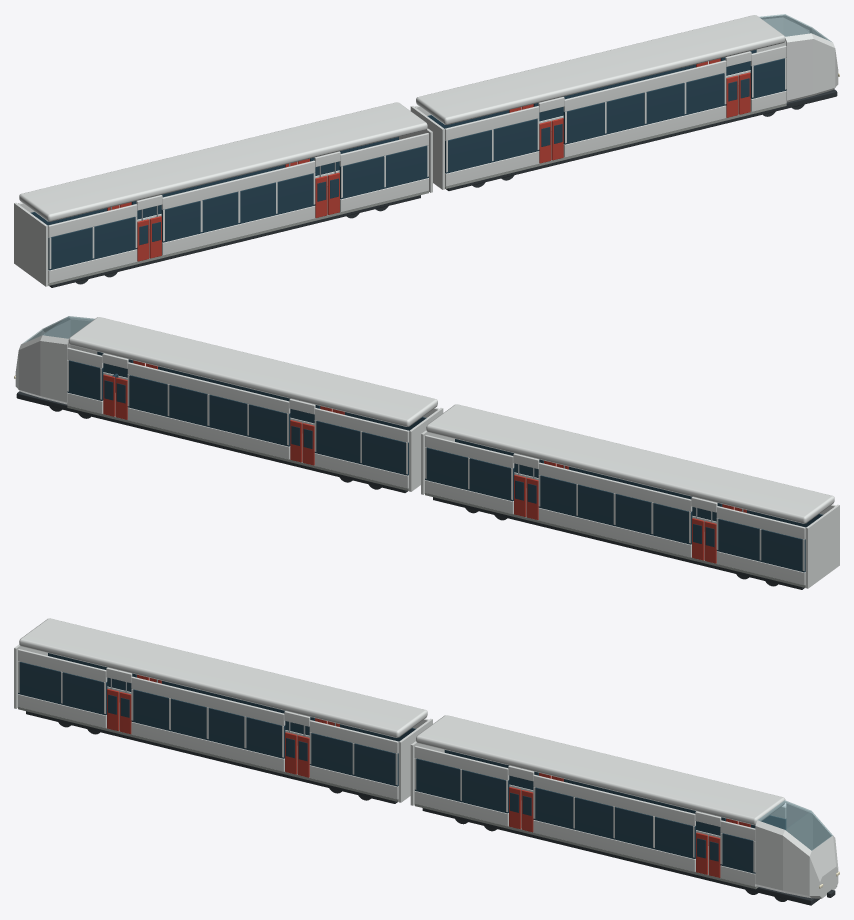
File: EMU-1.fbx
The picture shows the model from 3 angles, top to bottom: view 1: azimuth 30°, elevation 25°; view 2: azimuth 150°, elevation 25°; view 3: azimuth 330°, elevation 25°; orthographic projection.
Parts seen in each view (by area): view 1: INTERMEDIATE_roof, CAB_roof, CAB_L_side_1_2.21, INTERMEDIATE_L_side_1_2.21, CAB_sculpted_nose, CAB_L_side_0_2.21, INTERMEDIATE_L_side_0_2.21, INTERMEDIATE_L_side_2_2.21, CAB_L_side_1_1.08, INTERMEDIATE_trailing_bulkhead, CAB_L_side_1_3.31, INTERMEDIATE_L_side_1_1.08 (+16 smaller); view 2: INTERMEDIATE_roof, CAB_roof, CAB_R_side_1_2.21, INTERMEDIATE_R_side_1_2.21, CAB_sculpted_nose, CAB_R_side_0_2.21, INTERMEDIATE_R_side_0_2.21, INTERMEDIATE_R_side_2_2.21, CAB_R_side_1_1.08, INTERMEDIATE_trailing_bulkhead, CAB_R_side_1_3.31, INTERMEDIATE_R_side_1_1.08 (+16 smaller); view 3: INTERMEDIATE_roof, CAB_roof, CAB_sculpted_nose, CAB_L_side_1_2.21, INTERMEDIATE_L_side_1_2.21, CAB_L_side_0_2.21, INTERMEDIATE_L_side_2_2.21, INTERMEDIATE_L_side_0_2.21, CAB_L_side_1_1.08, CAB_L_side_1_3.31, INTERMEDIATE_L_side_1_1.08, INTERMEDIATE_L_side_1_3.31 (+16 smaller).
Boxes of the visible parts, bbox=[...] form: INTERMEDIATE_roof: bbox=[19, 102, 427, 221]; CAB_roof: bbox=[416, 15, 785, 124]; CAB_L_side_1_2.21: bbox=[563, 73, 726, 144]; INTERMEDIATE_L_side_1_2.21: bbox=[161, 173, 315, 242]; CAB_sculpted_nose: bbox=[756, 14, 838, 102]; CAB_L_side_0_2.21: bbox=[445, 119, 539, 173]; INTERMEDIATE_L_side_0_2.21: bbox=[48, 217, 137, 270]; INTERMEDIATE_L_side_2_2.21: bbox=[339, 145, 428, 199]; CAB_L_side_1_1.08: bbox=[563, 105, 726, 157]; INTERMEDIATE_trailing_bulkhead: bbox=[14, 202, 48, 286]; CAB_L_side_1_3.31: bbox=[563, 60, 726, 111]; INTERMEDIATE_L_side_1_1.08: bbox=[162, 206, 315, 255]; INTERMEDIATE_roof: bbox=[426, 404, 834, 523]; CAB_roof: bbox=[68, 317, 437, 426]; CAB_R_side_1_2.21: bbox=[127, 375, 290, 446]; INTERMEDIATE_R_side_1_2.21: bbox=[538, 475, 692, 544]; CAB_sculpted_nose: bbox=[15, 316, 97, 404]; CAB_R_side_0_2.21: bbox=[314, 421, 408, 475]; INTERMEDIATE_R_side_0_2.21: bbox=[716, 519, 805, 572]; INTERMEDIATE_R_side_2_2.21: bbox=[425, 447, 514, 501]; CAB_R_side_1_1.08: bbox=[127, 407, 290, 459]; INTERMEDIATE_trailing_bulkhead: bbox=[805, 504, 839, 588]; CAB_R_side_1_3.31: bbox=[127, 362, 290, 413]; INTERMEDIATE_R_side_1_1.08: bbox=[538, 508, 691, 557]; INTERMEDIATE_roof: bbox=[19, 618, 427, 737]; CAB_roof: bbox=[416, 715, 785, 825]; CAB_sculpted_nose: bbox=[755, 800, 838, 898]; CAB_L_side_1_2.21: bbox=[533, 787, 695, 858]; INTERMEDIATE_L_side_1_2.21: bbox=[131, 689, 285, 758]; CAB_L_side_0_2.21: bbox=[414, 758, 509, 813]; INTERMEDIATE_L_side_2_2.21: bbox=[309, 733, 398, 786]; INTERMEDIATE_L_side_0_2.21: bbox=[18, 662, 107, 715]; CAB_L_side_1_1.08: bbox=[533, 820, 695, 871]; CAB_L_side_1_3.31: bbox=[533, 774, 695, 826]; INTERMEDIATE_L_side_1_1.08: bbox=[131, 722, 284, 771]; INTERMEDIATE_L_side_1_3.31: bbox=[131, 676, 285, 725].
Size of what is drawn, in the model's own units: 14821 by 1464 by 1018.
